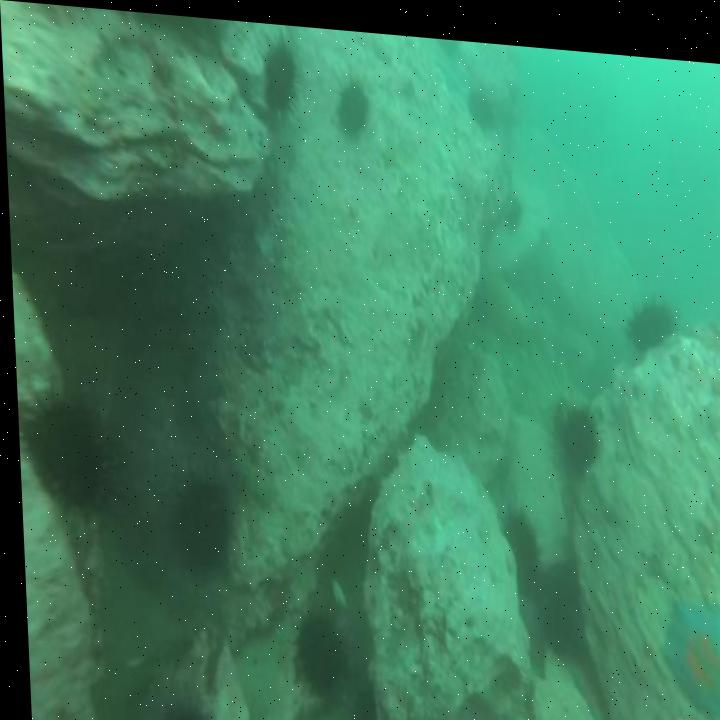echinus: (22, 401, 112, 505), (168, 475, 224, 567), (291, 609, 342, 691), (504, 500, 539, 579), (552, 393, 592, 460), (261, 43, 294, 109), (333, 71, 368, 132), (627, 290, 673, 336)
scallop: (326, 571, 344, 604)
starfish: (666, 580, 720, 708)
